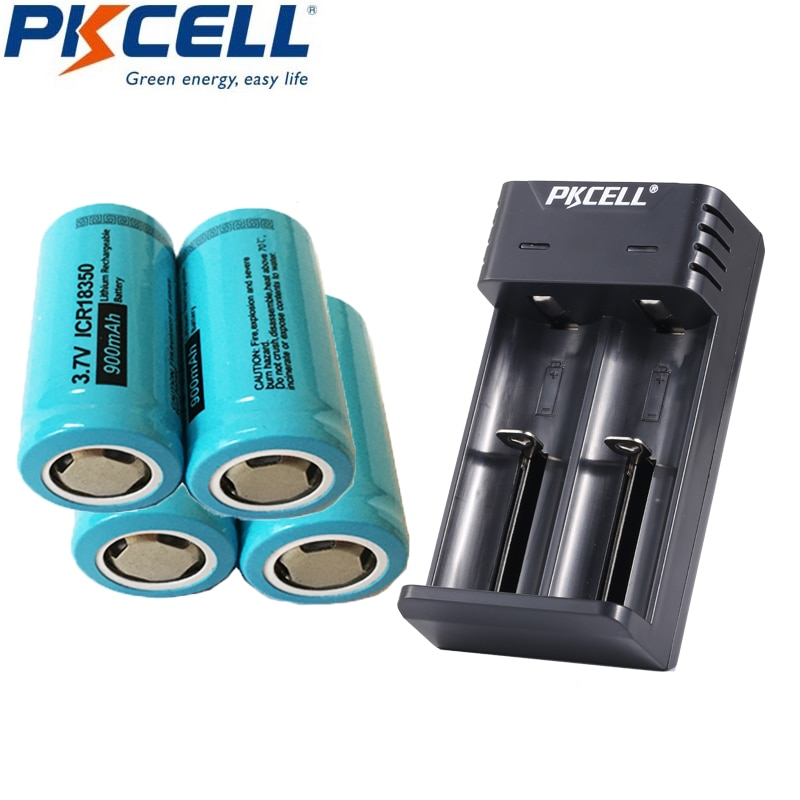Battery: (176, 206, 358, 525), (15, 201, 178, 516)
